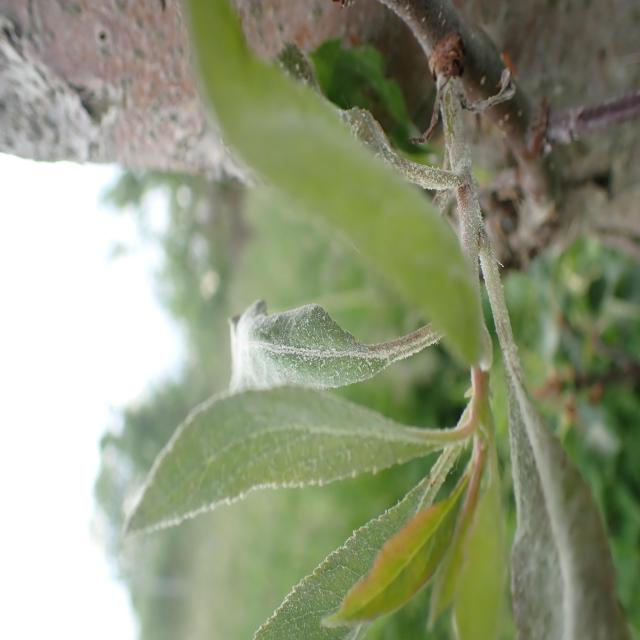Powdery_mildew: (106, 376, 465, 525), (487, 340, 640, 640), (203, 279, 442, 396)
